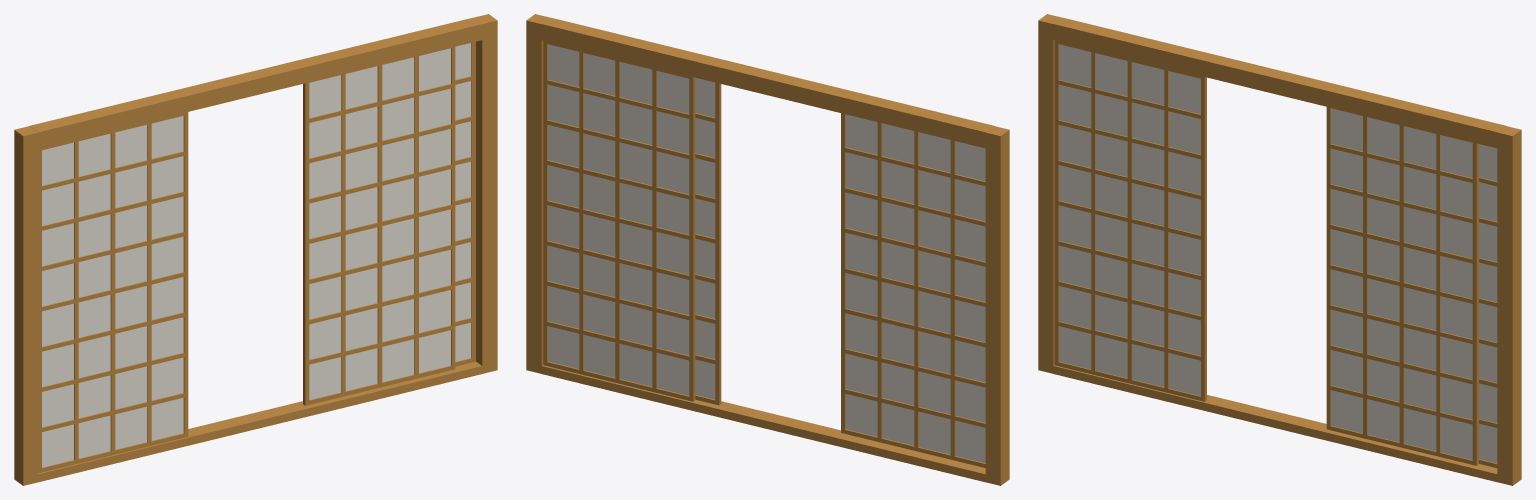
Rendered from japanesedoors.glb.
3 renders of one model, left to right at view 1: azimuth 30°, elevation 25°; view 2: azimuth 150°, elevation 25°; view 3: azimuth 330°, elevation 25°, orthographic.
Parts seen in each view (by area): view 1: Object_4, Object_2, Object_3; view 2: Object_4, Object_2, Object_3; view 3: Object_4, Object_2, Object_3.
Boxes of the visible parts, x1,y1,x2,y2 form: Object_4: (42, 43, 471, 467); Object_2: (14, 14, 497, 485); Object_3: (38, 41, 475, 473); Object_4: (548, 44, 985, 462); Object_2: (526, 14, 1009, 485); Object_3: (543, 40, 985, 467); Object_4: (1059, 44, 1497, 463); Object_2: (1038, 14, 1521, 485); Object_3: (1054, 40, 1497, 467).
Bounding box in the file's own units: 161 × 114 × 5.24.
